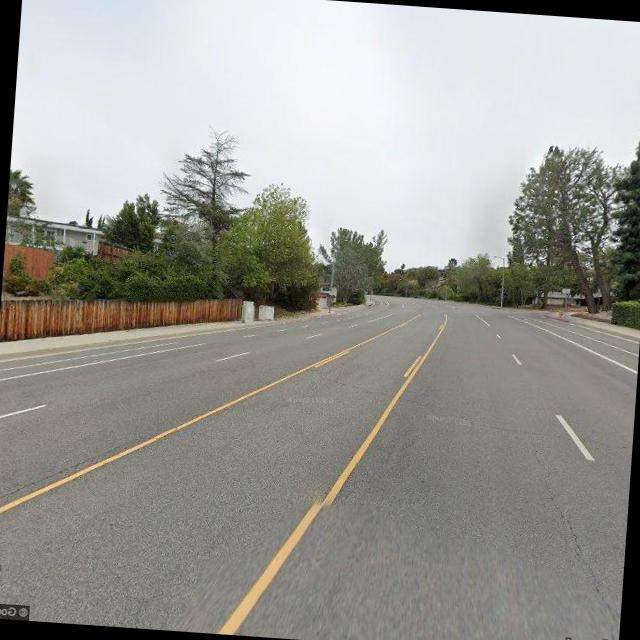crack: (522, 448, 616, 597), (0, 422, 150, 512), (321, 372, 470, 416), (479, 416, 626, 448)
